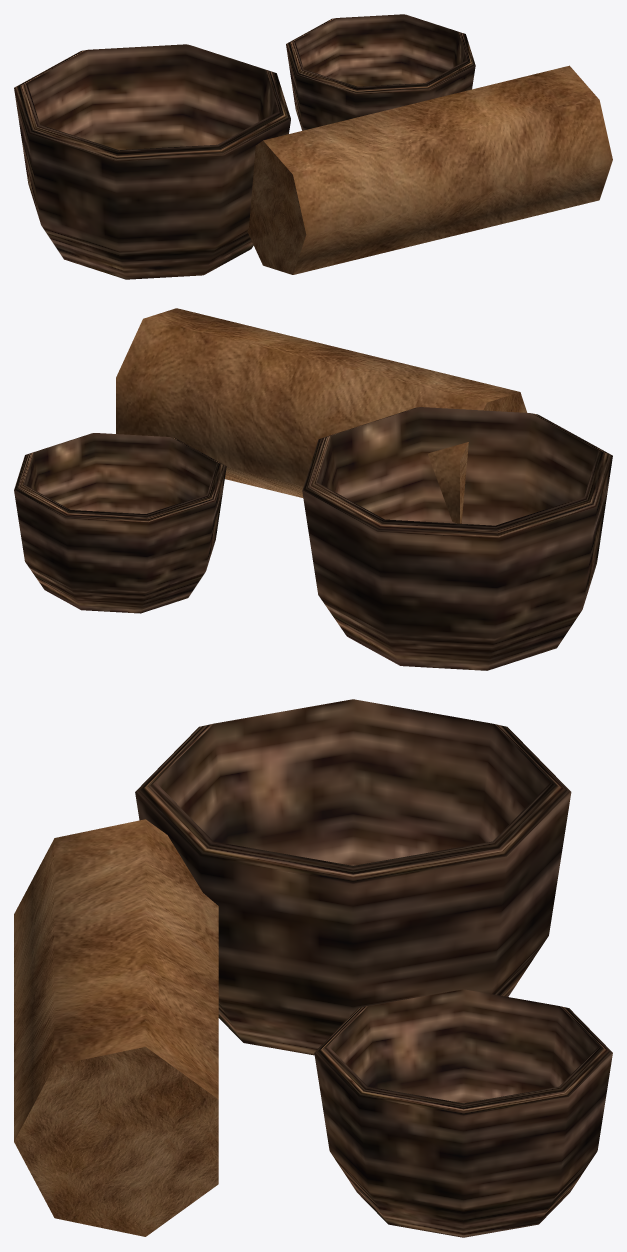
File: periodWeaving.glb
3 renders of one model, top to bottom at view 1: azimuth 30°, elevation 25°; view 2: azimuth 150°, elevation 25°; view 3: azimuth 270°, elevation 25°, orthographic. The views are drawn at different scales.
Visible parts, largest first — view 1: part_0, part_1; view 2: part_0, part_1; view 3: part_0, part_1.
Part boxes in pixels (x1=…): part_0: x1=14, y1=14, x2=475, y2=279; part_1: x1=247, y1=65, x2=612, y2=274; part_0: x1=14, y1=407, x2=612, y2=670; part_1: x1=116, y1=308, x2=527, y2=523; part_0: x1=135, y1=699, x2=612, y2=1237; part_1: x1=14, y1=819, x2=218, y2=1236.
Size of the model in its own units: 0.618 by 0.1754 by 0.445.
3 materials, 2 textured.
